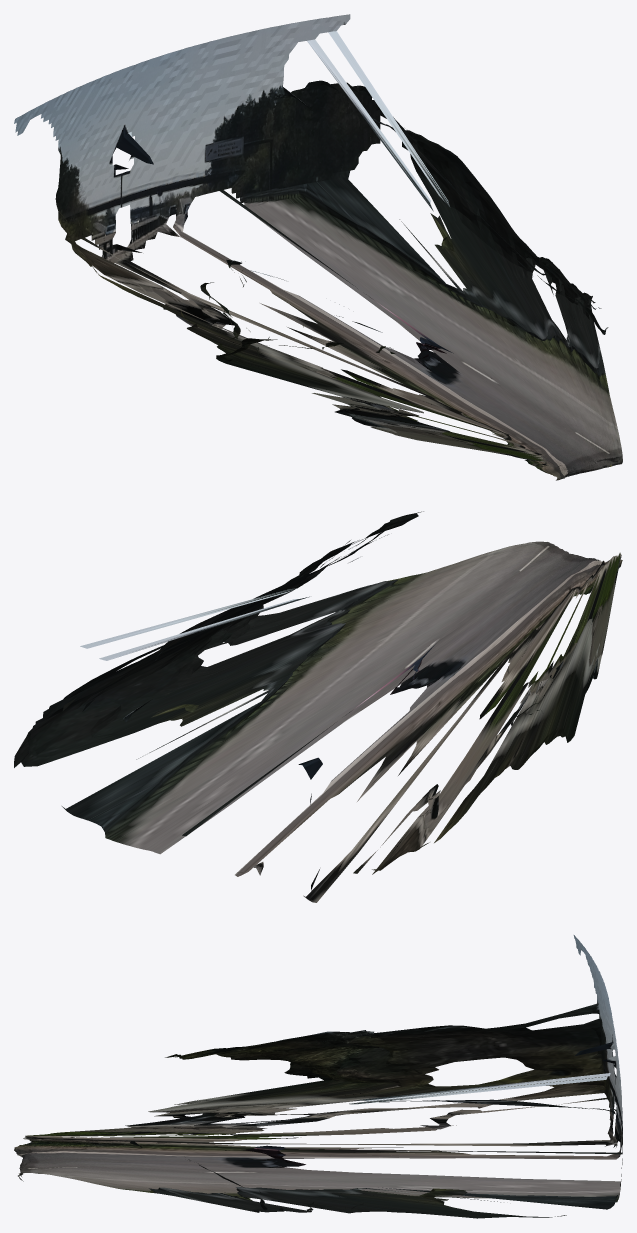
3 views of the same model, one above another, from view 1: azimuth 30°, elevation 25°; view 2: azimuth 150°, elevation 25°; view 3: azimuth 270°, elevation 25° (orthographic). The views are drawn at different scales.
Parts seen in each view (by area): view 1: defaultobject; view 2: defaultobject; view 3: defaultobject.
Part boxes in pixels (box(x1,y1,x2,y2)): defaultobject: box(14, 14, 622, 480); defaultobject: box(14, 511, 622, 902); defaultobject: box(14, 935, 622, 1218).
Bounding box in the file's own units: 28.52 × 13.18 × 44.64.
Materials: 1 (1 with a texture image).
